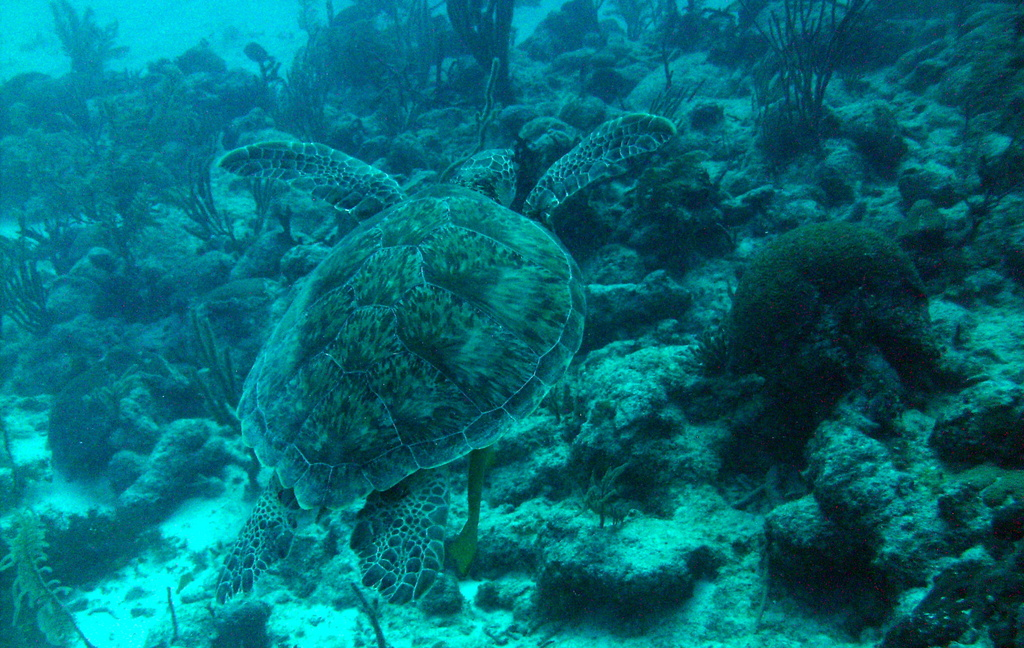Sea turtles: (215, 112, 686, 617)
